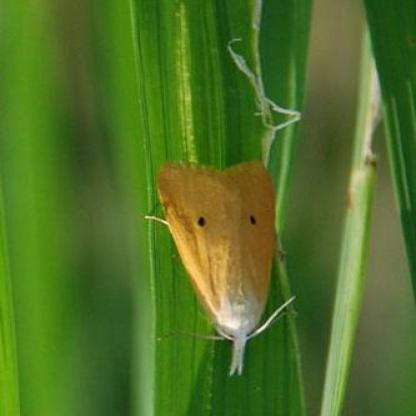stem-borer: (144, 163, 294, 376)
